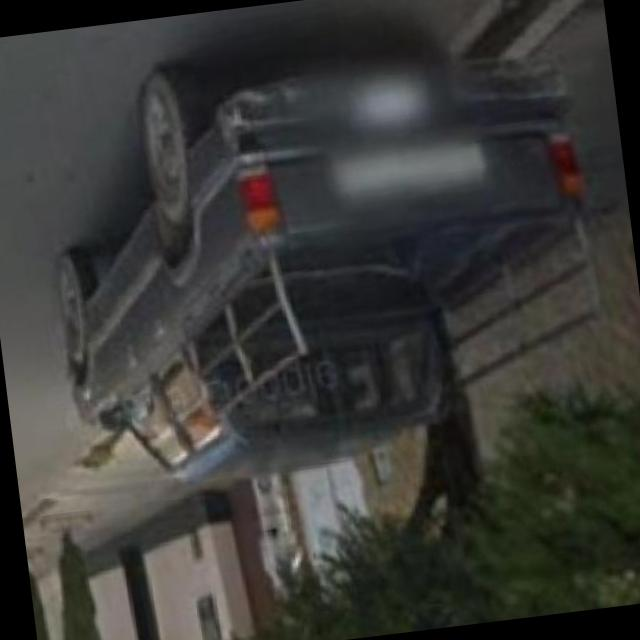car: (15, 8, 624, 504)
